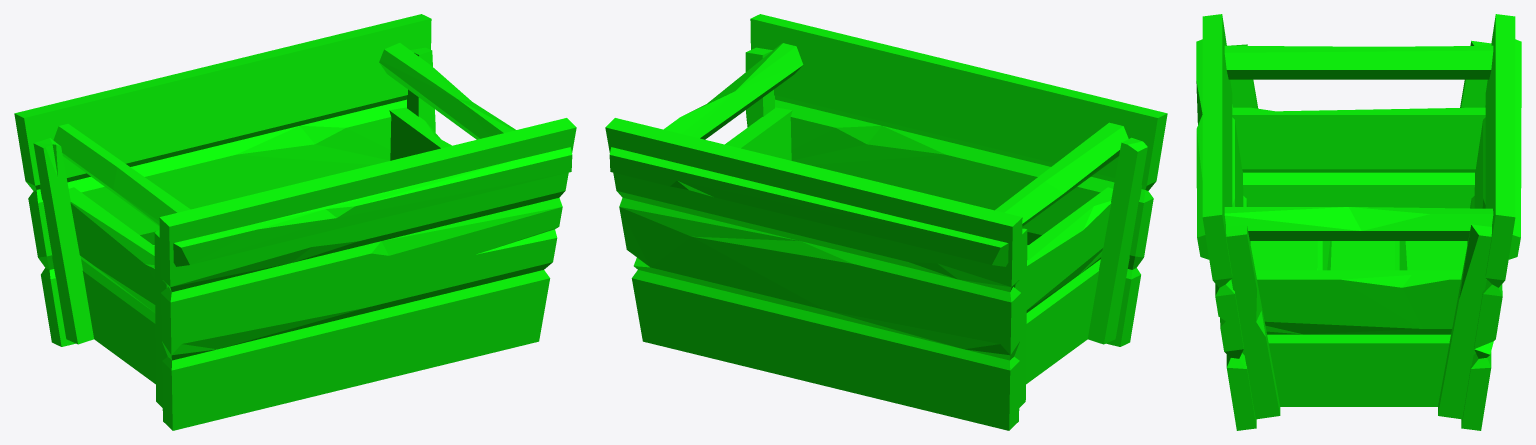
The model's file is SM_Toolbox_Fantasy.fbx.
3 views of the same model, side by side, from view 1: azimuth 30°, elevation 25°; view 2: azimuth 150°, elevation 25°; view 3: azimuth 270°, elevation 25° (orthographic).
Parts seen in each view (by area): view 1: toolbox-fantasy; view 2: toolbox-fantasy; view 3: toolbox-fantasy.
Part boxes in pixels (left/top/right/bottom): toolbox-fantasy: left=14, top=14, right=576, bottom=430; toolbox-fantasy: left=605, top=14, right=1167, bottom=430; toolbox-fantasy: left=1196, top=14, right=1521, bottom=430.
Bounding box in the file's own units: 0.7608 × 0.3998 × 0.5212.
